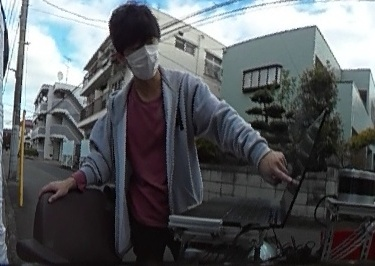person: (99, 4, 216, 266)
